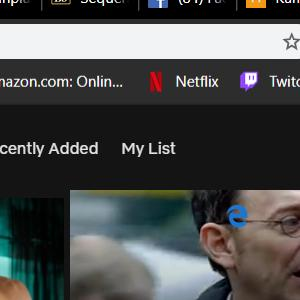edge: (227, 205, 247, 227)
